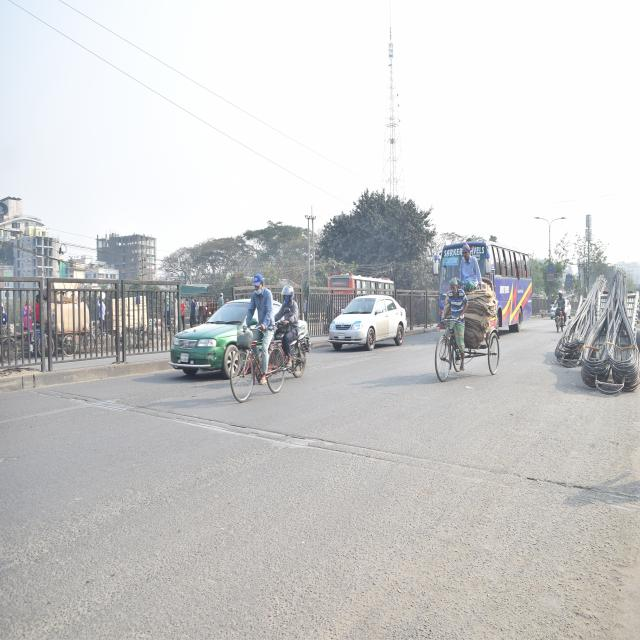bus: (435, 239, 535, 331)
car: (170, 290, 264, 387), (325, 284, 409, 355)
motorbike: (272, 306, 309, 379), (552, 293, 570, 336)
